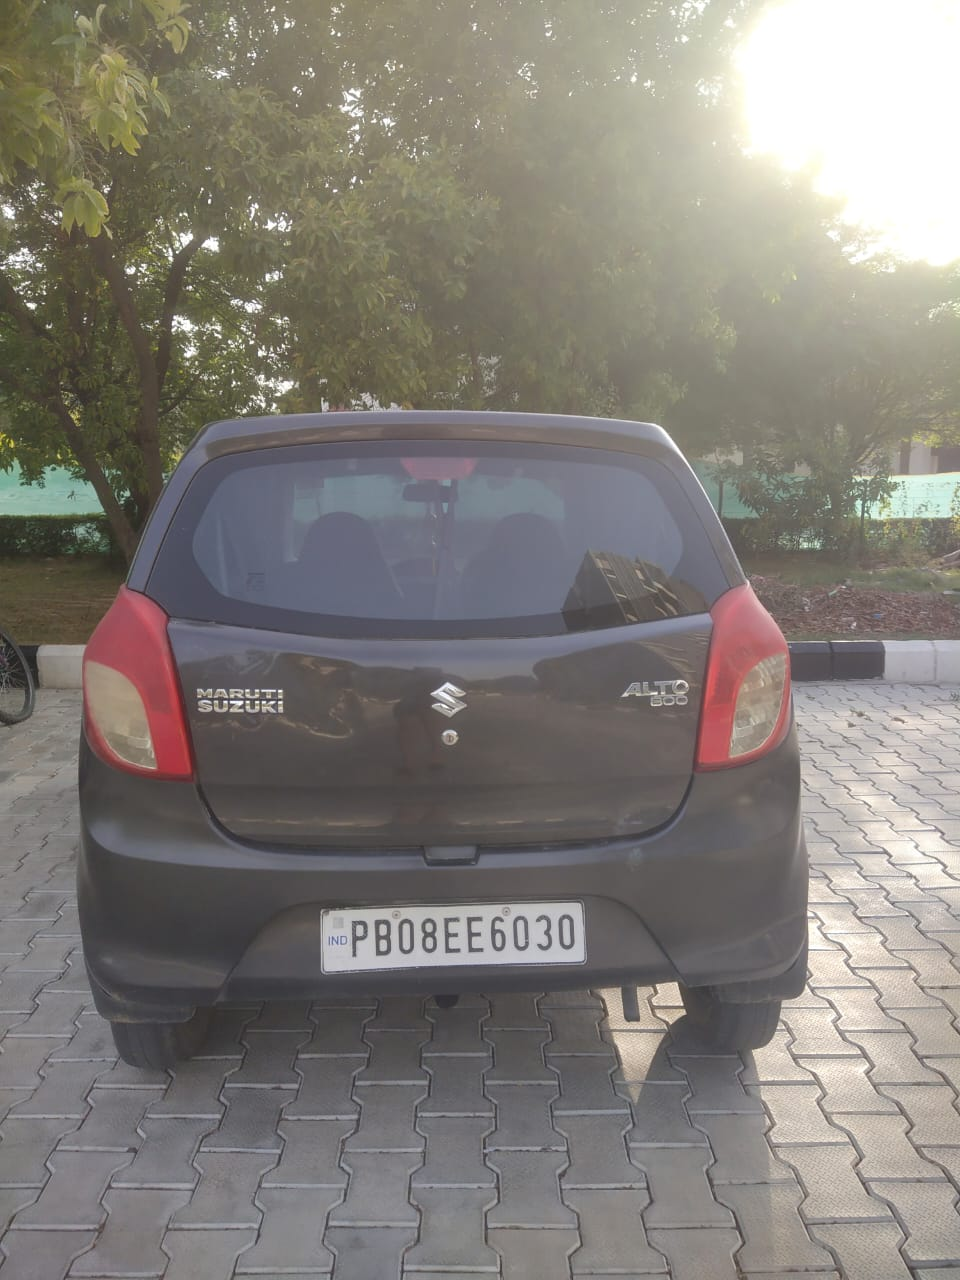license plate: (322, 901, 585, 972)
